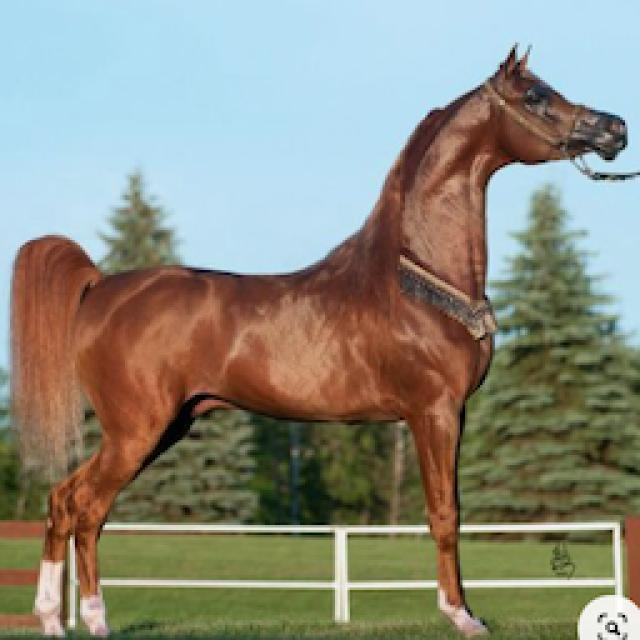Horse: (2, 38, 636, 638)
